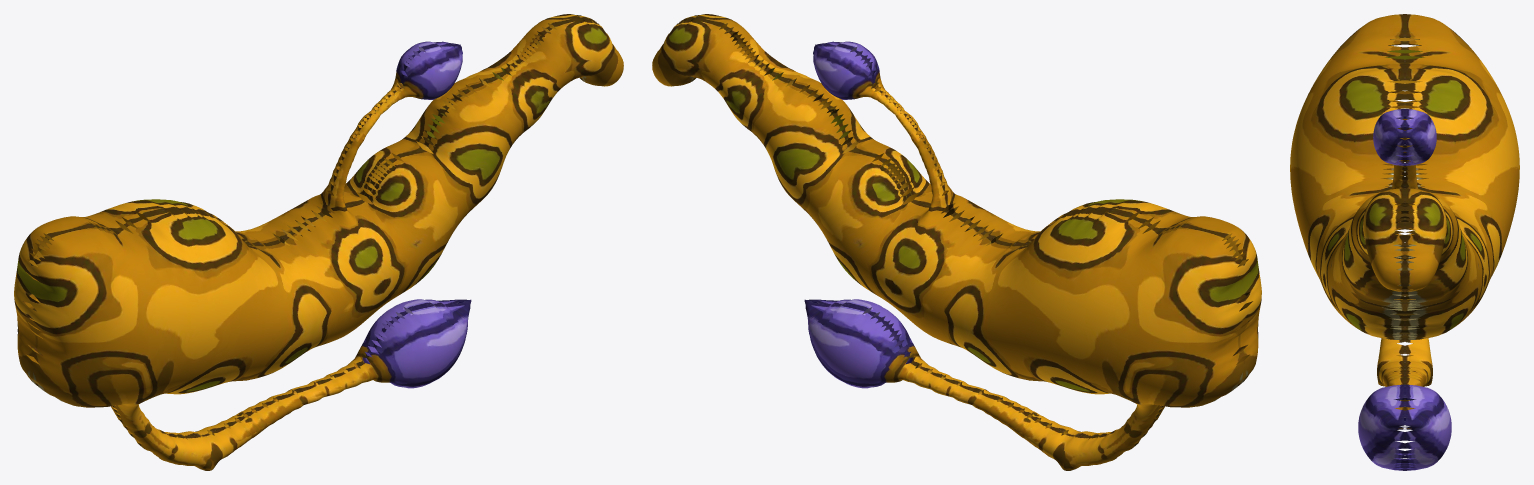
Rendered from spotted_root.glb.
3 views of the same model, side by side, from view 1: azimuth 30°, elevation 25°; view 2: azimuth 150°, elevation 25°; view 3: azimuth 270°, elevation 25° (orthographic). The views are drawn at different scales.
Parts seen in each view (by area): view 1: spotted_root; view 2: spotted_root; view 3: spotted_root.
Part boxes in pixels (x1,y1,x2,y2): spotted_root: (14, 14, 623, 470); spotted_root: (652, 14, 1261, 470); spotted_root: (1290, 14, 1519, 470).
Size of the model in its own units: 0.989 by 0.5761 by 0.303.
1 material, 1 textured.
